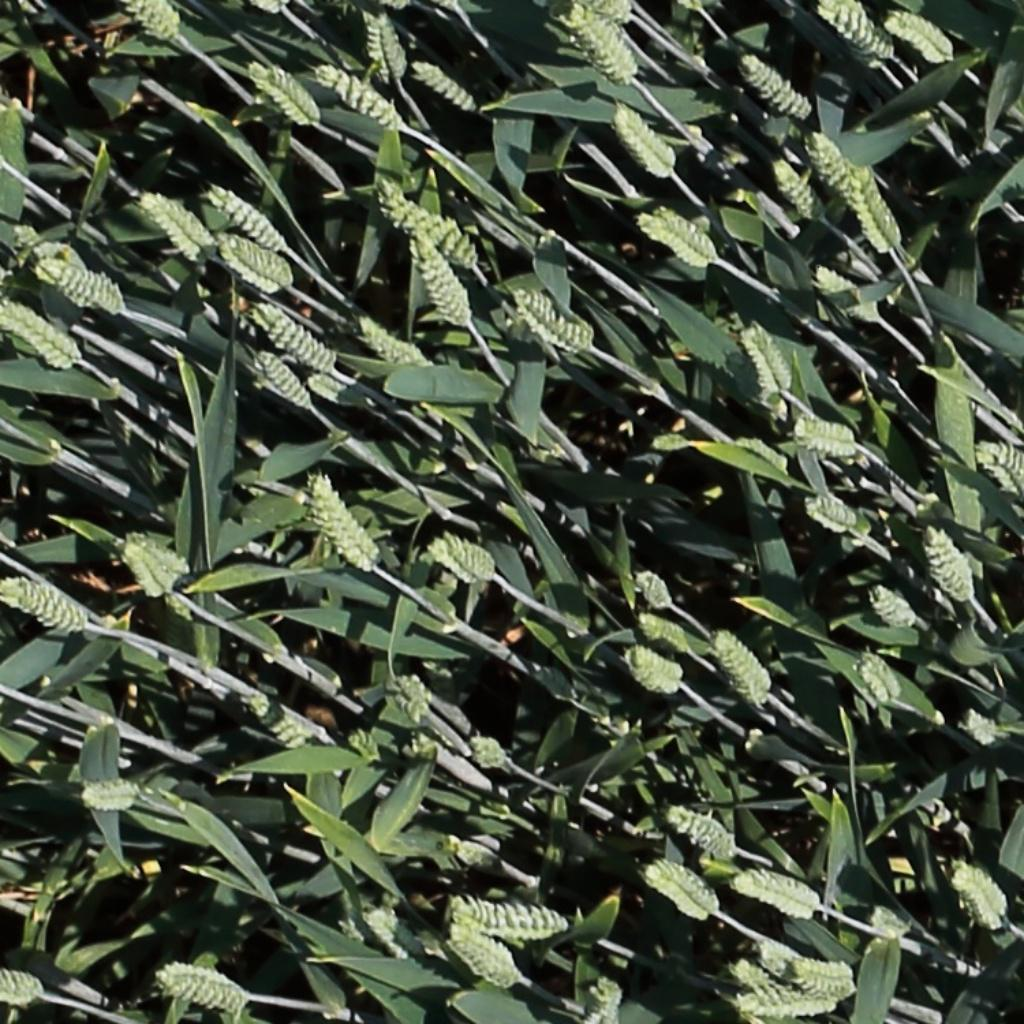0-0: (809, 122, 899, 252), (762, 934, 880, 1016), (375, 177, 480, 262), (308, 468, 379, 572), (619, 845, 720, 918), (449, 889, 582, 943), (725, 858, 831, 922), (811, 257, 891, 339), (409, 226, 472, 330), (251, 300, 337, 372), (567, 2, 640, 86), (949, 858, 1019, 941), (145, 953, 245, 1011), (315, 62, 402, 128), (451, 929, 535, 997), (717, 421, 802, 488), (629, 205, 722, 266), (611, 98, 681, 177), (208, 182, 288, 251), (33, 249, 125, 309), (725, 983, 856, 1024), (849, 162, 906, 253), (514, 288, 595, 352), (137, 188, 211, 258), (741, 53, 816, 121), (922, 520, 980, 607), (712, 628, 775, 708), (0, 304, 81, 361), (0, 578, 88, 630), (742, 319, 797, 401), (612, 641, 688, 700), (249, 64, 322, 125), (357, 4, 410, 86), (429, 530, 503, 588), (244, 690, 309, 755), (770, 151, 828, 223), (823, 2, 895, 60), (255, 345, 316, 413), (785, 411, 864, 463), (120, 535, 176, 603), (357, 315, 430, 367), (666, 806, 738, 858), (218, 236, 292, 285), (413, 60, 480, 111), (887, 10, 955, 60), (79, 773, 155, 817), (857, 644, 906, 712), (974, 442, 1024, 502), (550, 0, 660, 27), (124, 531, 188, 577), (869, 582, 921, 630), (805, 498, 871, 533), (638, 613, 696, 652), (581, 968, 621, 1024), (633, 566, 678, 614), (126, 1, 181, 40), (0, 972, 57, 1009), (725, 954, 776, 993), (363, 903, 402, 947), (962, 711, 1011, 746), (345, 726, 383, 767), (469, 735, 509, 771)
